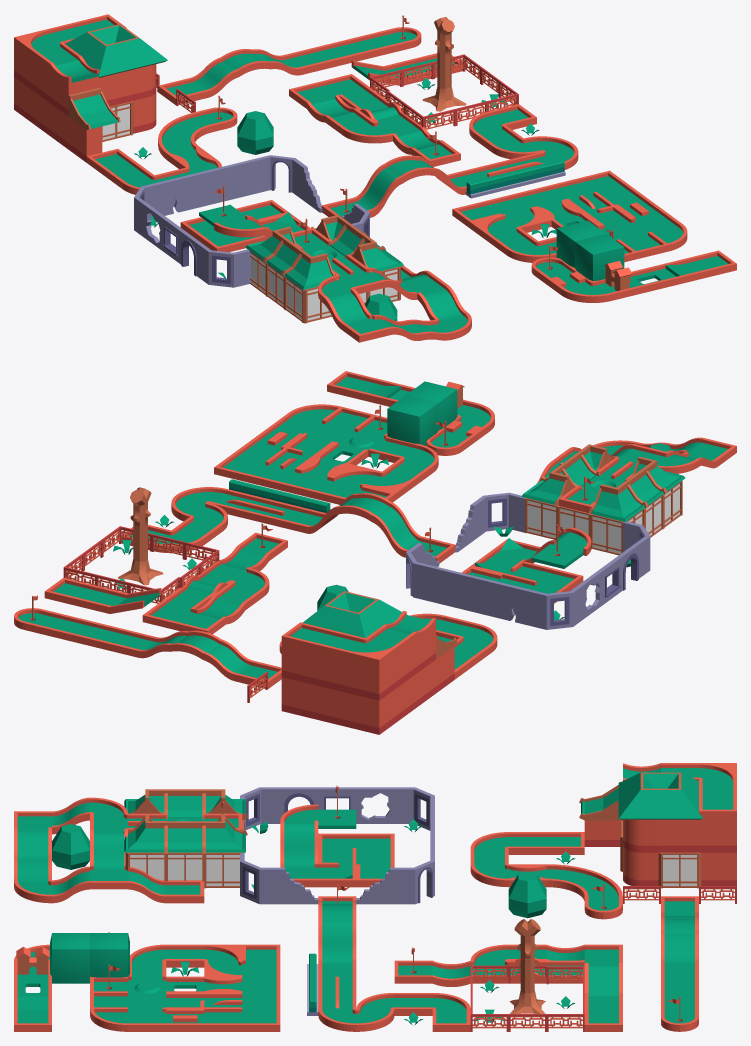
Rendered from course-city.glb.
3 renders of one model, top to bottom at view 1: azimuth 30°, elevation 25°; view 2: azimuth 150°, elevation 25°; view 3: azimuth 270°, elevation 25°, orthographic. The views are drawn at different scales.
Parts seen in each view (by area): view 1: straight (×9), slope_smoothB (×5), corner (×6), side (×6), bend (×6), roof_eastAsianCorner (×4), wall_eastAsianWall (×5), leafs_square (×2), roof_slopeCorner (×3), block_half (×3), wall_cornerEdgeWindowLarge (×2), wall (×2) (+43 smaller); view 2: straight (×14), block (×5), corner (×6), wall_cornerEdgeWindowLarge (×3), wall_eastAsianWall (×5), block_corner_large (×3), side (×5), roof_eastAsianCorner (×3), leafs_square (×2), wall (×2), block_half (×3), roof_slopeCorner (×3) (+36 smaller); view 3: straight (×13), bend (×10), side (×7), slope_smoothB (×5), wall_eastAsianWall (×4), corner (×6), roof_eastAsianCorner (×4), wall_cornerEdgeWindowLarge (×3), leafs_square (×2), roof_slopeCorner (×4), slope_smoothD (×2), fence_eastAsianDetailed (×6) (+46 smaller).
Boxes of the visible parts, x1,y1,x2,y2 form: straight (×9): (32, 32, 537, 255); slope_smoothB (×5): (190, 49, 466, 340); corner (×6): (199, 74, 669, 342); side (×6): (401, 178, 681, 294); bend (×6): (343, 121, 610, 339); roof_eastAsianCorner (×4): (245, 215, 403, 289); wall_eastAsianWall (×5): (102, 101, 331, 323); leafs_square (×2): (556, 220, 624, 280); roof_slopeCorner (×3): (65, 28, 167, 77); block_half (×3): (32, 57, 131, 162); wall_cornerEdgeWindowLarge (×2): (134, 182, 250, 287); wall (×2): (190, 159, 254, 209); straight (×14): (39, 436, 492, 665); block (×5): (281, 660, 435, 734); corner (×6): (142, 406, 736, 634); wall_cornerEdgeWindowLarge (×3): (473, 492, 650, 629); wall_eastAsianWall (×5): (525, 481, 682, 555); block_corner_large (×3): (281, 625, 435, 700); side (×5): (233, 412, 361, 504); roof_eastAsianCorner (×3): (521, 456, 685, 522); leafs_square (×2): (387, 381, 457, 445); wall (×2): (431, 566, 498, 617); block_half (×3): (314, 639, 454, 693); roof_slopeCorner (×3): (302, 595, 402, 637); straight (×13): (128, 763, 736, 1015); bend (×10): (14, 797, 508, 1031); side (×7): (90, 848, 394, 1031); slope_smoothB (×5): (14, 797, 698, 963); wall_eastAsianWall (×4): (125, 852, 701, 888); corner (×6): (14, 811, 622, 1031); roof_eastAsianCorner (×4): (123, 789, 247, 852); wall_cornerEdgeWindowLarge (×3): (240, 787, 434, 904); leafs_square (×2): (50, 933, 129, 983); roof_slopeCorner (×4): (618, 772, 702, 819); slope_smoothD (×2): (280, 820, 356, 963); fence_eastAsianDetailed (×6): (470, 886, 736, 1031).
Size of the model in its own units: 13.12 by 2.71 by 19.
